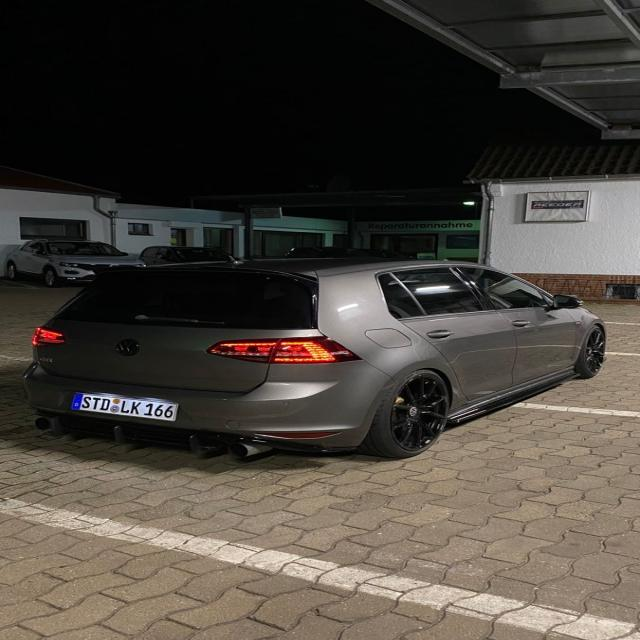Placas: (64, 389, 180, 426)
